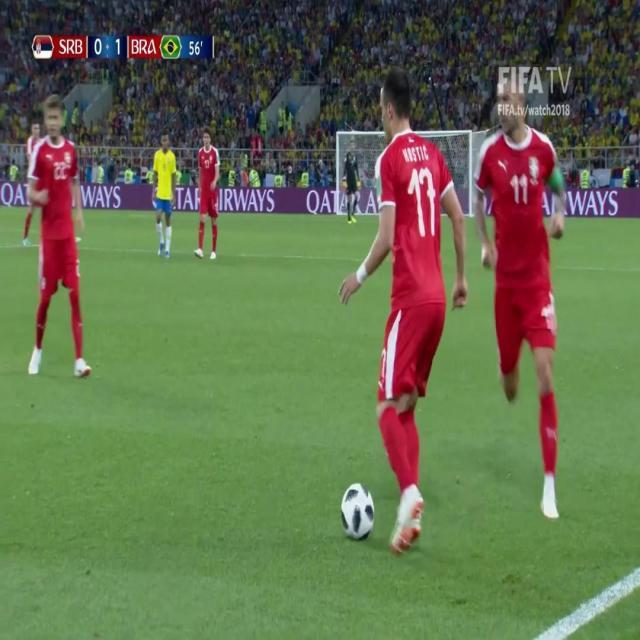ball: (335, 480, 380, 549)
goalkeeper: (342, 145, 361, 228)
player: (338, 79, 469, 558), (473, 77, 573, 525), (17, 86, 95, 394), (193, 125, 225, 267), (150, 129, 183, 262)
